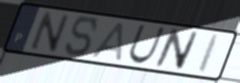A: (89, 21, 127, 63)
I: (195, 33, 223, 76)
N: (153, 27, 201, 72), (28, 9, 72, 54)
S: (63, 15, 100, 58)
U: (126, 24, 167, 66)
